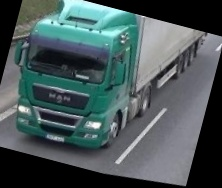truck: (0, 0, 222, 184)
